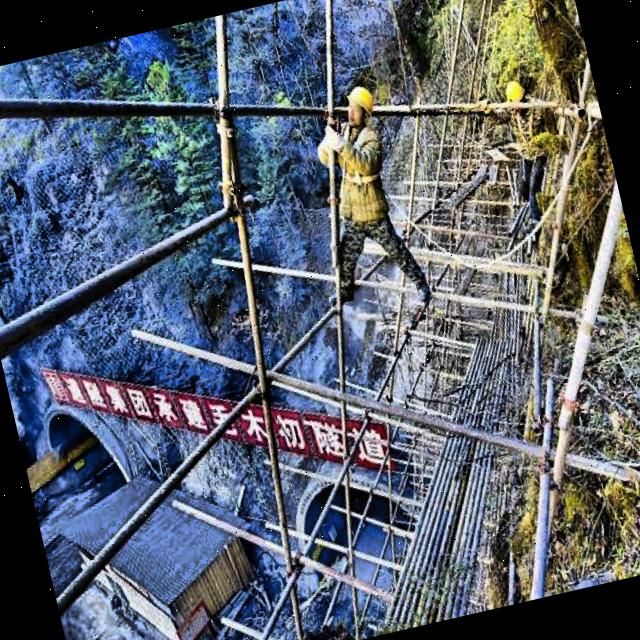helmet: (338, 81, 382, 134), (502, 78, 532, 120)
